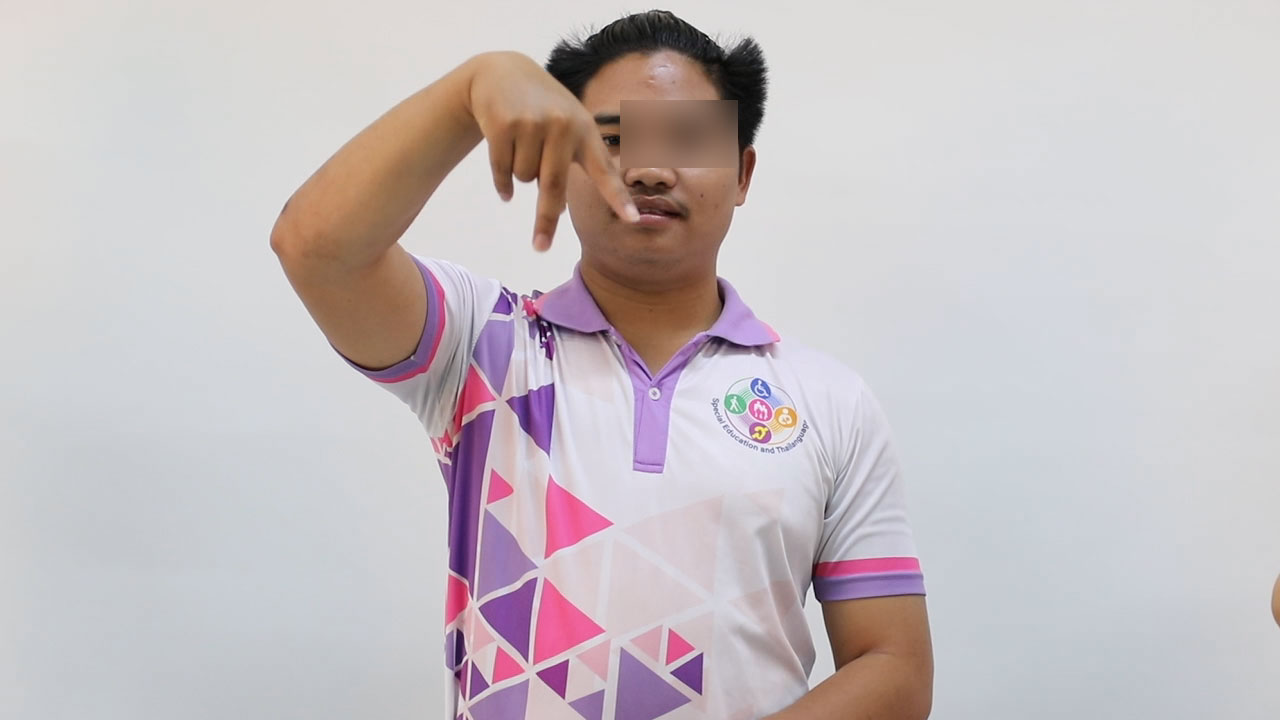por: (457, 39, 646, 256)
